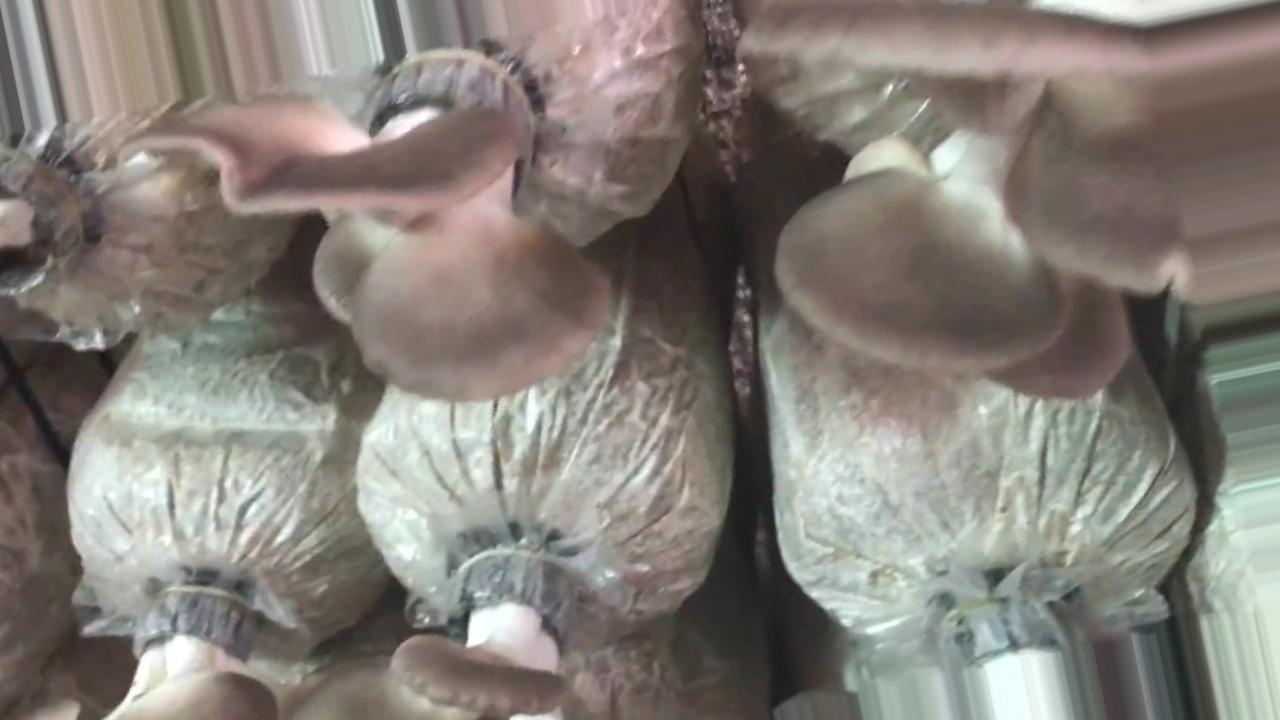nam: (732, 1, 1276, 407), (114, 42, 616, 410), (386, 512, 581, 720), (109, 568, 282, 720)
